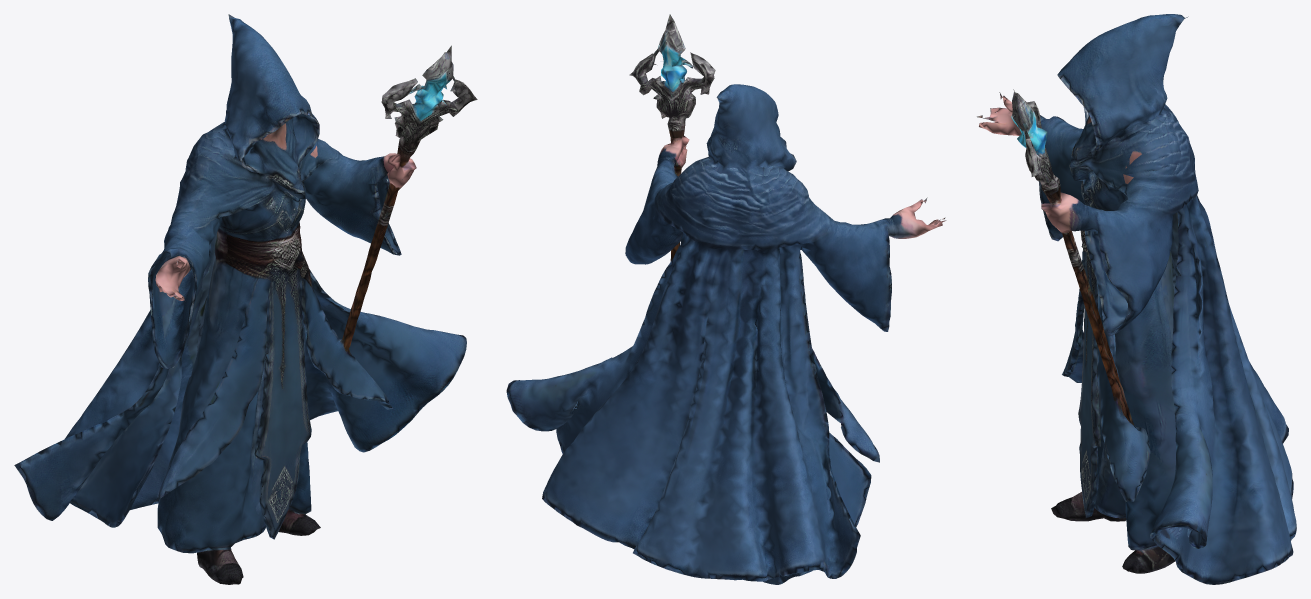
File: player_mage.glb
3 renders of one model, left to right at view 1: azimuth 30°, elevation 25°; view 2: azimuth 150°, elevation 25°; view 3: azimuth 270°, elevation 25°, orthographic. The views are drawn at different scales.
Visible parts, largest first — view 1: Mesh_0.001; view 2: Mesh_0.001; view 3: Mesh_0.001.
Boxes of the visible parts, x1,y1,x2,y2 form: Mesh_0.001: [14, 14, 477, 584]; Mesh_0.001: [506, 14, 946, 584]; Mesh_0.001: [977, 14, 1296, 584].
Bounding box in the file's own units: 1.55 × 1.8 × 0.9878.
Materials: 1 (1 with a texture image).
